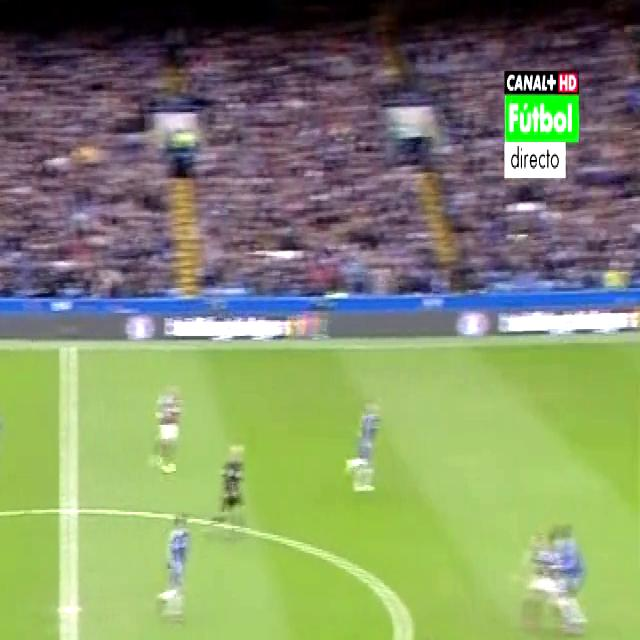referee: (214, 437, 253, 543)
soccer-player: (553, 494, 590, 640), (515, 515, 557, 640), (346, 383, 384, 508), (161, 512, 195, 628), (156, 381, 184, 478), (408, 611, 449, 640), (0, 384, 5, 496), (58, 633, 102, 640)
